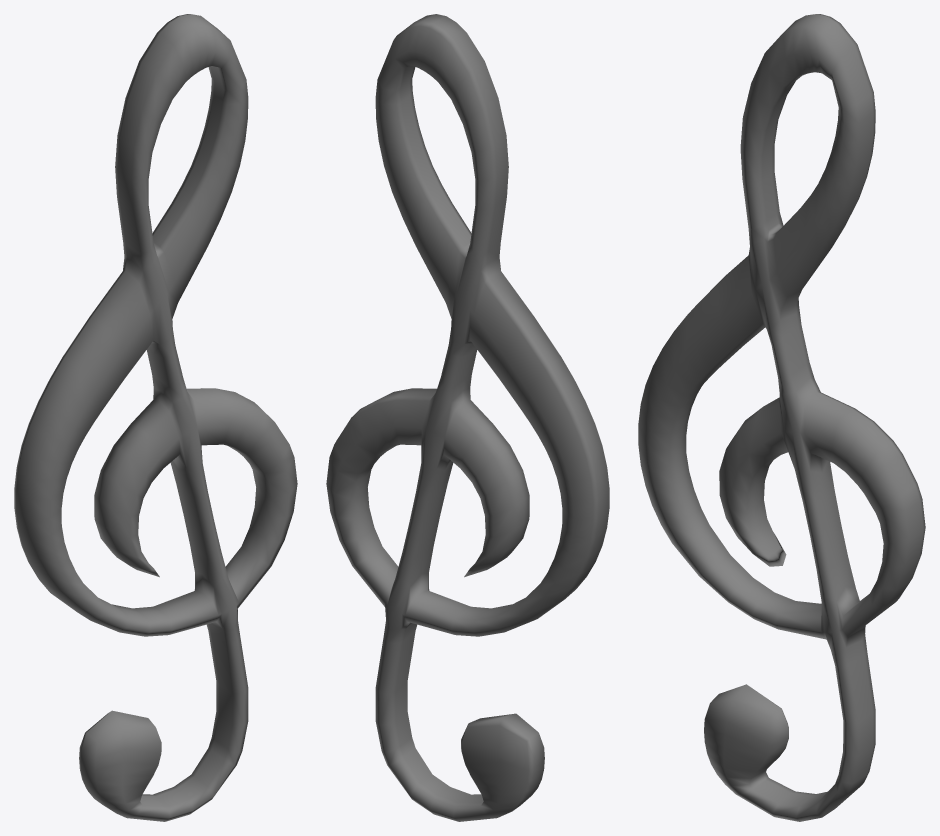
Rendered from musical_key.glb.
The picture shows the model from 3 angles, left to right: view 1: azimuth 30°, elevation 25°; view 2: azimuth 150°, elevation 25°; view 3: azimuth 330°, elevation 25°; orthographic projection.
Visible parts, largest first — view 1: node_id8; view 2: node_id8; view 3: node_id8.
Boxes of the visible parts, x1,y1,x2,y2 form: node_id8: (14,14,297,821); node_id8: (326,14,609,821); node_id8: (638,14,925,821).
Size of the model in its own units: 0.1523 by 0.4259 by 0.0234.
1 material, 1 textured.
